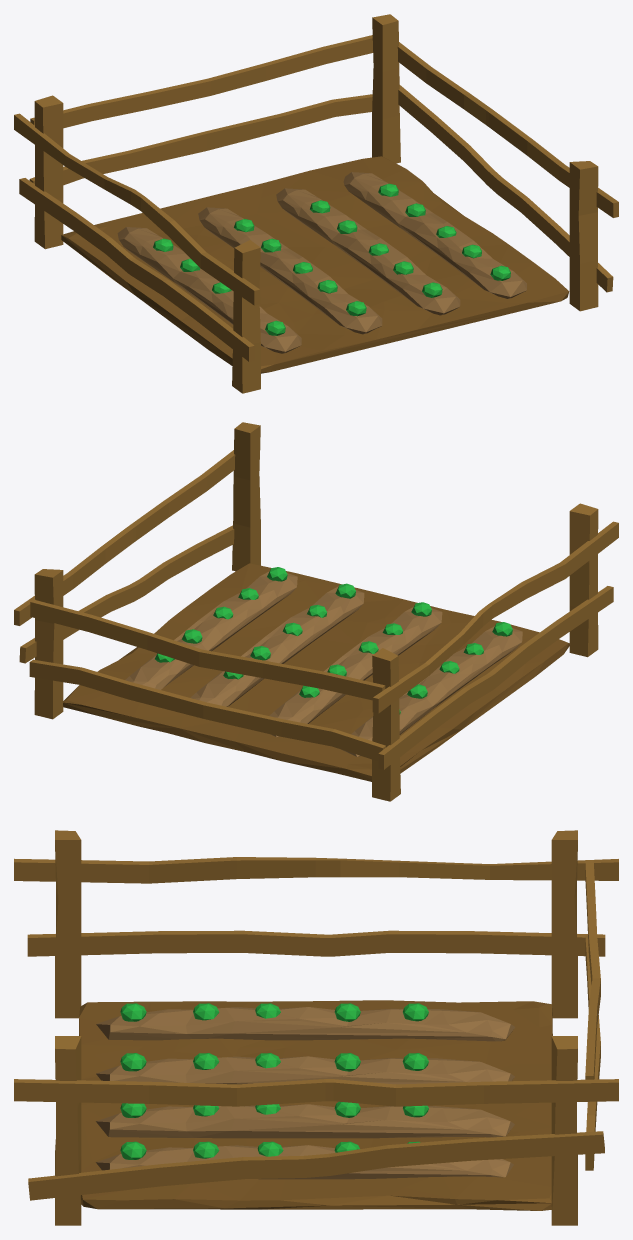
The model's file is Cultivo.fbx.
3 renders of one model, top to bottom at view 1: azimuth 30°, elevation 25°; view 2: azimuth 150°, elevation 25°; view 3: azimuth 270°, elevation 25°, orthographic. The views are drawn at different scales.
Visible parts, largest first — view 1: Cerca, Tierra, Tierra2.001, Tierra2, Tierra2.003, Tierra2.002; view 2: Cerca, Tierra, Tierra2, Tierra2.001, Tierra2.002, Tierra2.003; view 3: Cerca, Tierra, Tierra2.001, Tierra2.002, Tierra2.003, Tierra2.
Boxes of the visible parts, bbox=[...] form: Cerca: bbox=[14, 14, 618, 393]; Tierra: bbox=[61, 156, 569, 373]; Tierra2.001: bbox=[276, 188, 460, 315]; Tierra2: bbox=[343, 172, 526, 298]; Tierra2.003: bbox=[198, 207, 382, 334]; Tierra2.002: bbox=[117, 227, 301, 353]; Cerca: bbox=[14, 422, 618, 801]; Tierra: bbox=[63, 563, 570, 781]; Tierra2: bbox=[125, 571, 297, 689]; Tierra2.001: bbox=[190, 586, 364, 706]; Tierra2.002: bbox=[341, 626, 522, 756]; Tierra2.003: bbox=[269, 607, 442, 737]; Cerca: bbox=[14, 830, 618, 1225]; Tierra: bbox=[79, 1000, 552, 1210]; Tierra2.001: bbox=[96, 1104, 514, 1138]; Tierra2.002: bbox=[96, 1007, 515, 1041]; Tierra2.003: bbox=[96, 1056, 514, 1084]; Tierra2: bbox=[96, 1145, 513, 1179].
Bounding box in the file's own units: 2.98 × 1.1 × 3.38.
